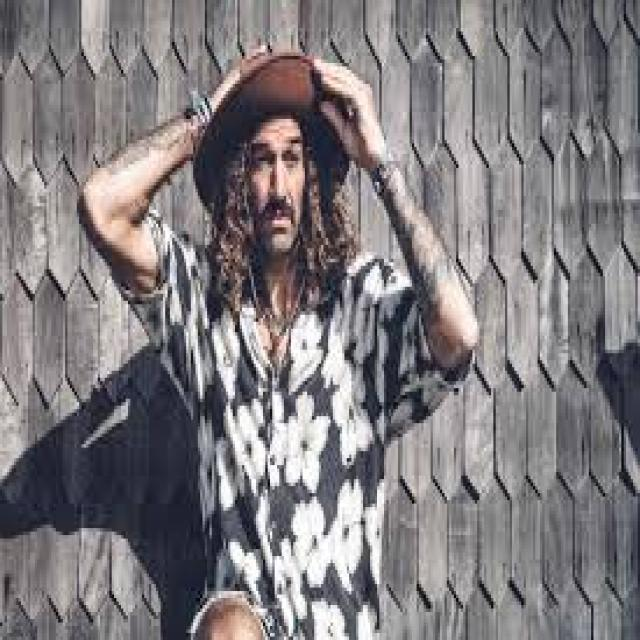hat: (193, 52, 352, 259)
